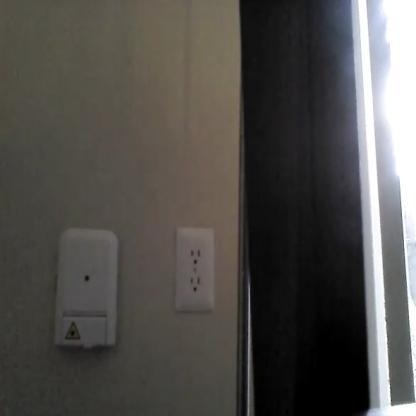OUTLET: (174, 226, 215, 314)
